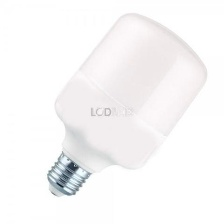light_bulb: (44, 7, 209, 201)
